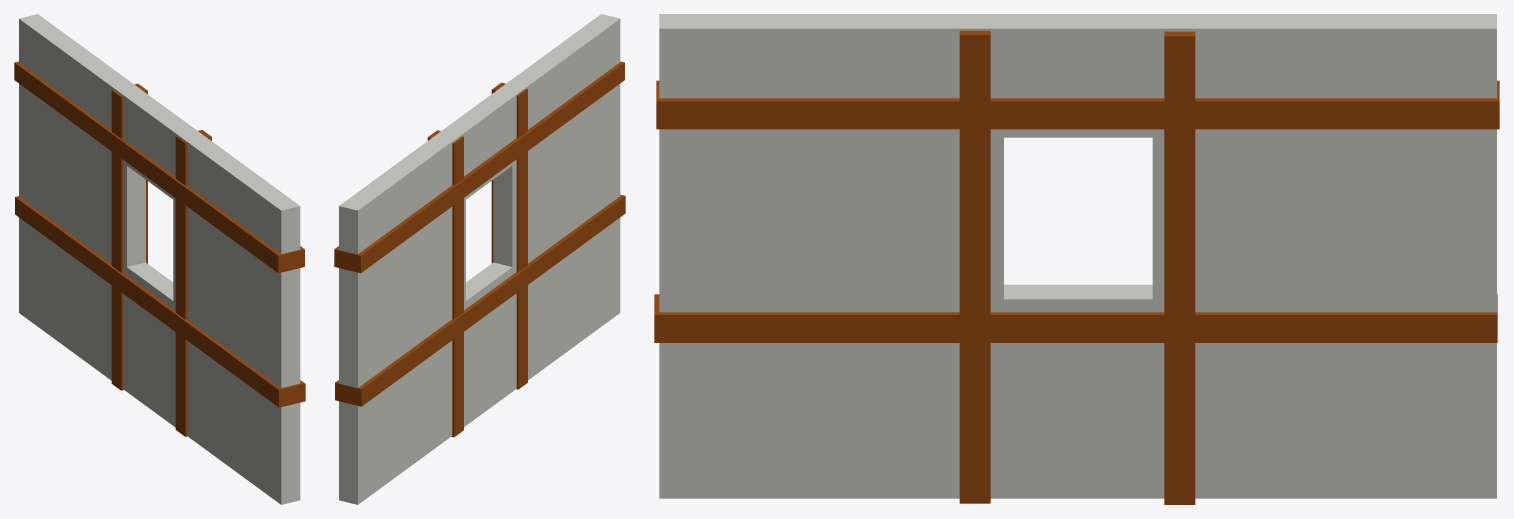
The model's file is OneWindowWall1.fbx.
The picture shows the model from 3 angles, left to right: view 1: azimuth 30°, elevation 25°; view 2: azimuth 150°, elevation 25°; view 3: azimuth 270°, elevation 25°; orthographic projection. The views are drawn at different scales.
Parts seen in each view (by area): view 1: OneWindowWall1; view 2: OneWindowWall1; view 3: OneWindowWall1.
Boxes of the visible parts, x1,y1,x2,y2 form: OneWindowWall1: (14, 14, 305, 504); OneWindowWall1: (334, 14, 625, 504); OneWindowWall1: (654, 14, 1499, 504).
Bounding box in the file's own units: 113 × 1115 × 1810.
